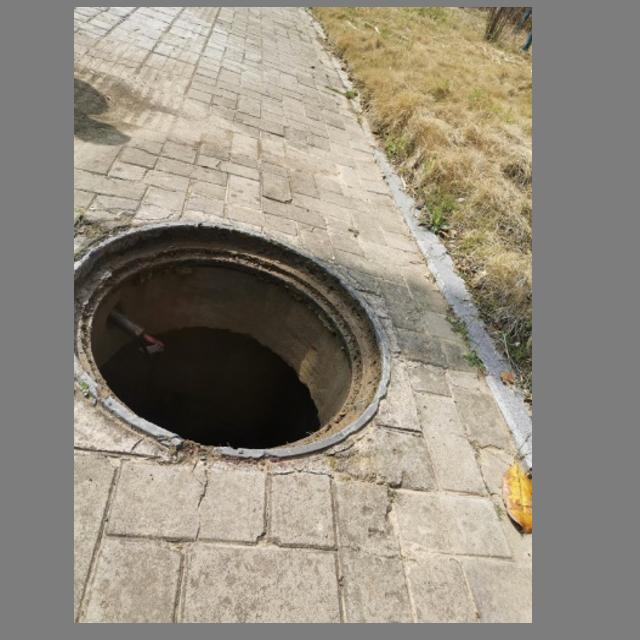lose: (74, 218, 393, 462)
